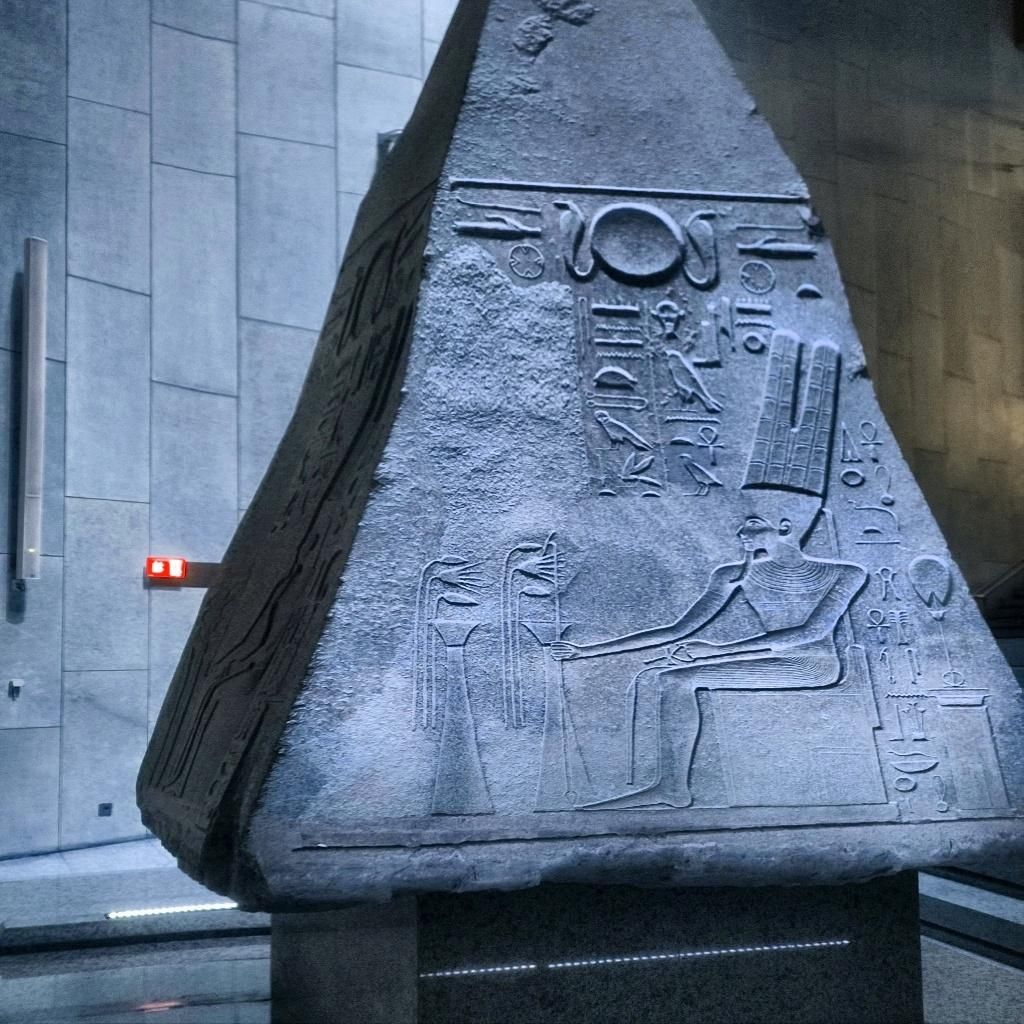Obelsik Tip of Hatshepsut: (132, 0, 1024, 895)
